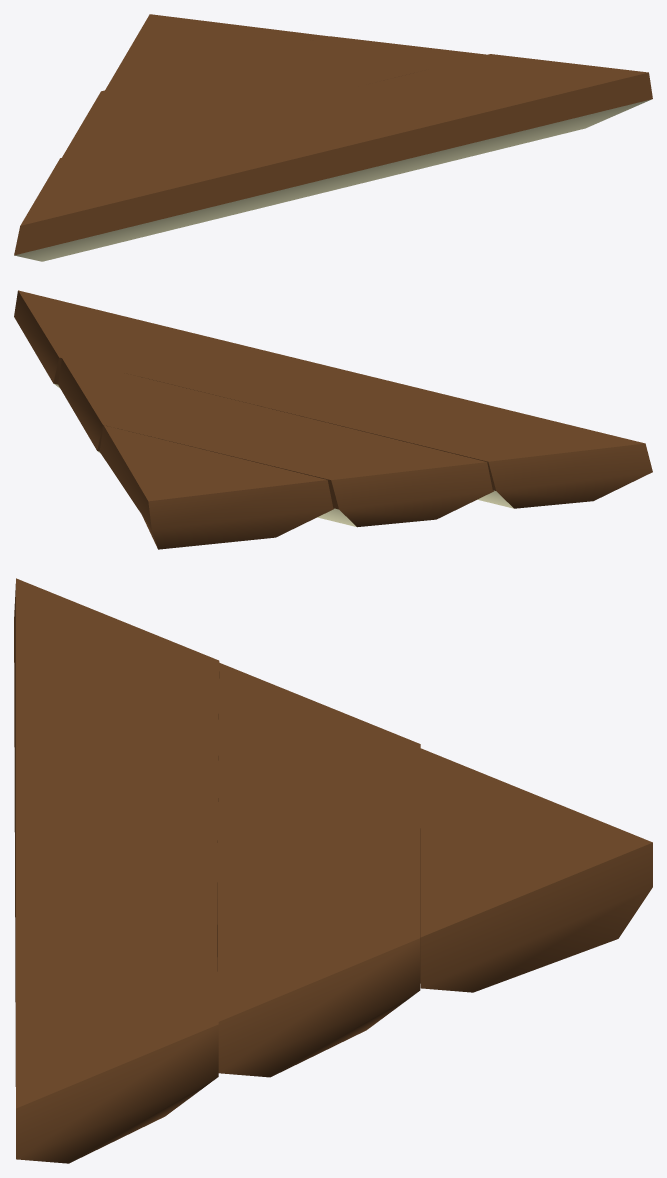
Rendered from rt90_wood_2_willowSplitLogTriFloorSection2.glb.
The picture shows the model from 3 angles, top to bottom: view 1: azimuth 30°, elevation 25°; view 2: azimuth 150°, elevation 25°; view 3: azimuth 270°, elevation 25°; orthographic projection. The views are drawn at different scales.
Parts seen in each view (by area): view 1: inside; view 2: inside; view 3: inside.
Boxes of the visible parts, x1=… form: inside: x1=14, y1=14, x2=652, y2=261; inside: x1=14, y1=290, x2=652, y2=549; inside: x1=14, y1=578, x2=652, y2=1163.
Bounding box in the file's own units: 1.46 × 0.1233 × 0.7315.
